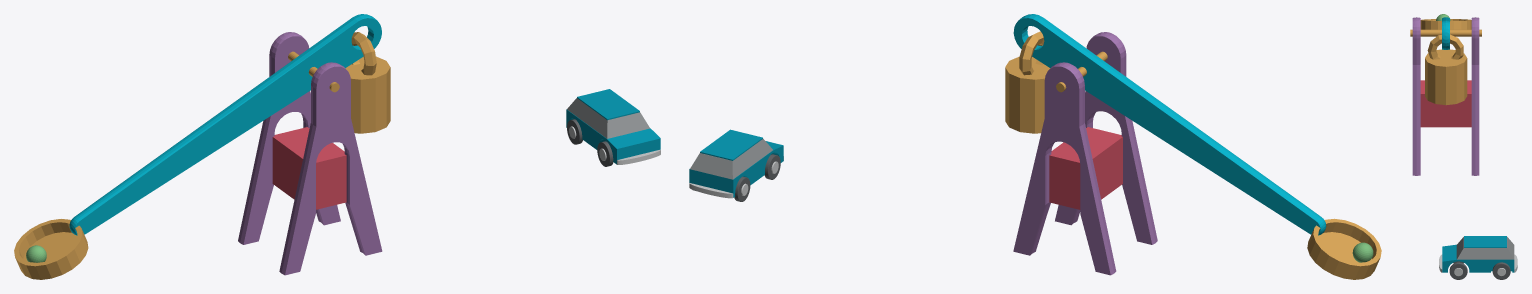
Rendered from Incredible Robo-Wluff.glb.
3 renders of one model, left to right at view 1: azimuth 30°, elevation 25°; view 2: azimuth 150°, elevation 25°; view 3: azimuth 270°, elevation 25°, orthographic. The views are drawn at different scales.
Visible parts, largest first — view 1: Mesh_Mesh_head_geo.001_lambert2SG.001; view 2: Mesh_Mesh_head_geo.001_lambert2SG.001; view 3: Mesh_Mesh_head_geo.001_lambert2SG.001.
Boxes of the visible parts, x1,y1,x2,y2 form: Mesh_Mesh_head_geo.001_lambert2SG.001: (14,14,660,279); Mesh_Mesh_head_geo.001_lambert2SG.001: (689,14,1381,279); Mesh_Mesh_head_geo.001_lambert2SG.001: (1410,14,1517,279).
Size of the model in its own units: 0.1467 by 0.0475 by 0.03.
